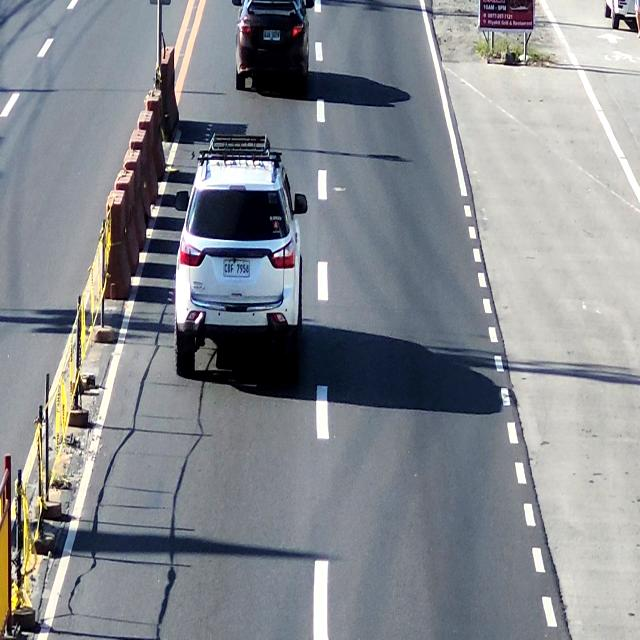Car: (175, 133, 309, 393), (233, 0, 315, 93)
License-Plate: (220, 256, 253, 280), (260, 27, 283, 44)
